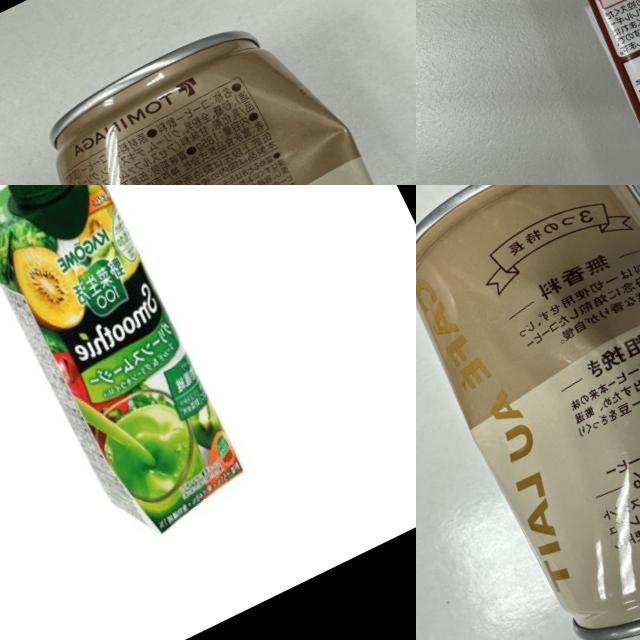Aluminium Foil: (0, 185, 258, 545), (541, 0, 640, 185)
Can: (416, 185, 640, 640), (0, 0, 416, 185)
